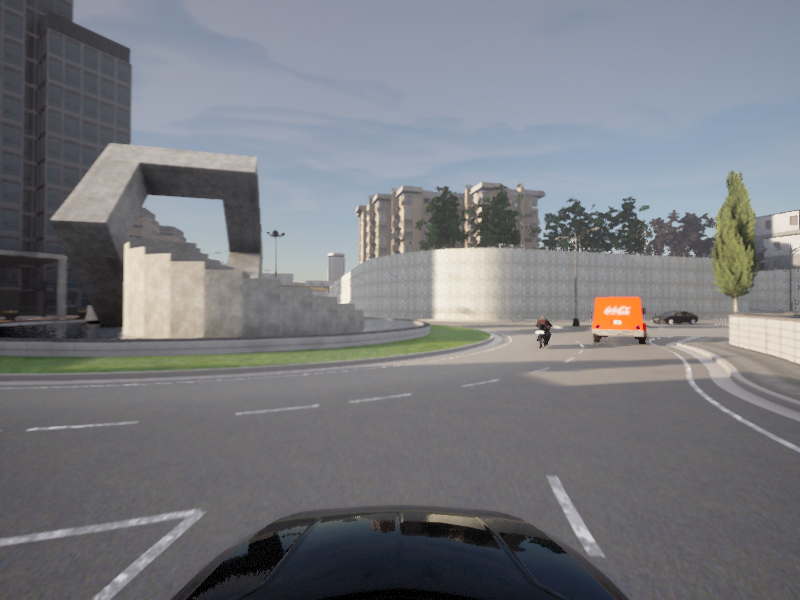vehicle: (589, 296, 647, 345), (530, 314, 555, 349)
